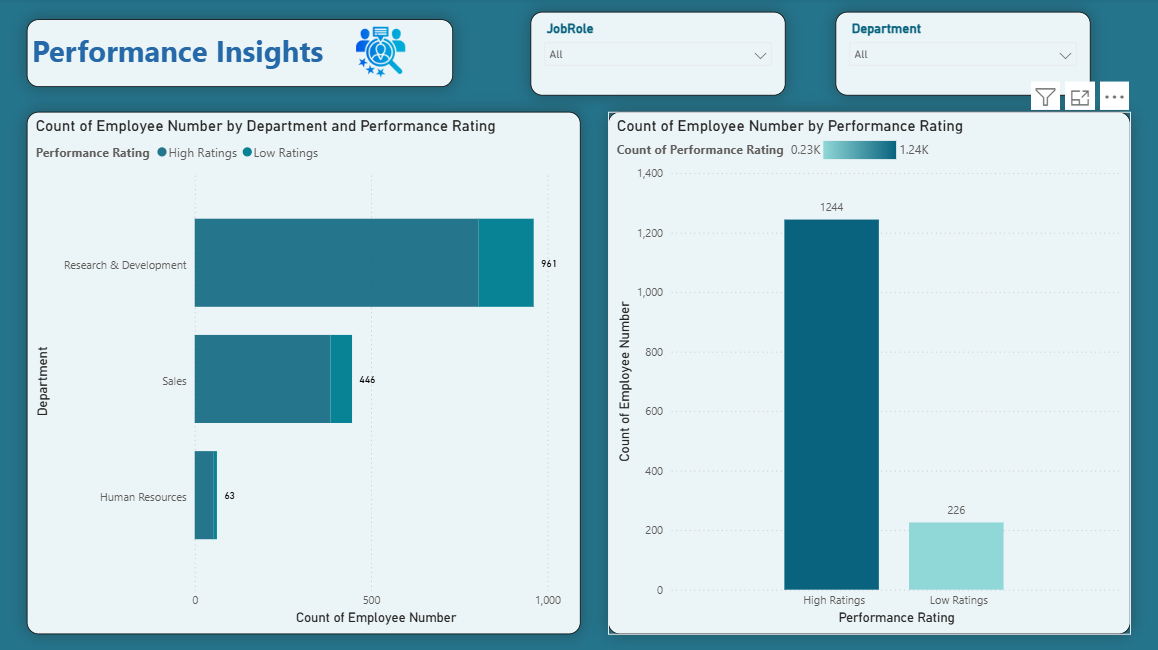

The dashboard page shown, as its layout file describes it:
{"tool":"powerbi","page":{"name":"Performance Insghts","canvas":[1280,720],"ordinal":3},"visuals":[{"type":"slicer","fields":{"Values":["HR Analytics Data.Department"]},"box":[919.4,15.1,279.9,91.9],"z":0},{"type":"slicer","fields":{"Values":["HR Analytics Data.JobRole"]},"box":[584.6,15.1,279.9,91.9],"z":1000},{"type":"clusteredColumnChart","fields":{"Category":["HR Analytics Data.Performance Rating"],"Y":["CountNonNull(HR employee data.Employee Number)"]},"box":[669.6,124.9,573.6,573.6],"z":2000},{"type":"barChart","fields":{"Series":["HR Analytics Data.Performance Rating"],"Category":["HR Analytics Data.Department"],"Y":["CountNonNull(HR employee data.Employee Number)"]},"box":[31.6,124.9,607.9,573.6],"z":3000},{"type":"textbox","box":[31.6,23.3,467.9,74.1],"z":4000},{"type":"image","box":[293.7,31.6,252.5,56.3],"z":5000}]}

Visuals, with their boxes in screenshot pixels (x1, y1, x2, y2), scaled from the page's 1280x720 canvas onto the 1158x650 screenshot:
slicer - HR Analytics Data.Department: locate(832, 14, 1085, 97)
slicer - HR Analytics Data.JobRole: locate(529, 14, 782, 97)
clusteredColumnChart - HR Analytics Data.Performance Rating x CountNonNull(HR employee data.Employee Number): locate(606, 113, 1125, 631)
barChart - HR Analytics Data.Performance Rating x HR Analytics Data.Department: locate(29, 113, 579, 631)
textbox: locate(29, 21, 452, 88)
image: locate(266, 29, 494, 79)
